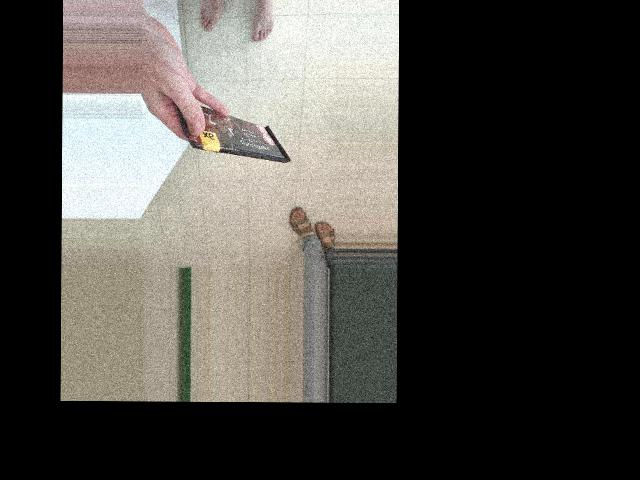chocolate: (166, 91, 296, 167)
